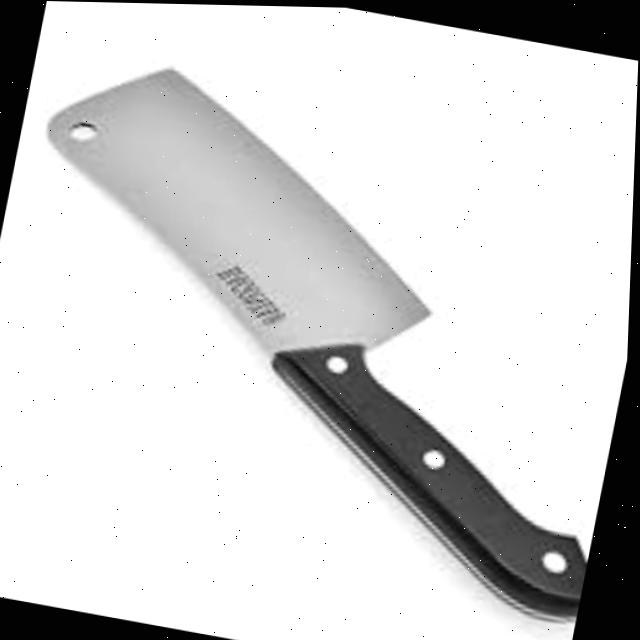knife: (0, 44, 639, 621)
